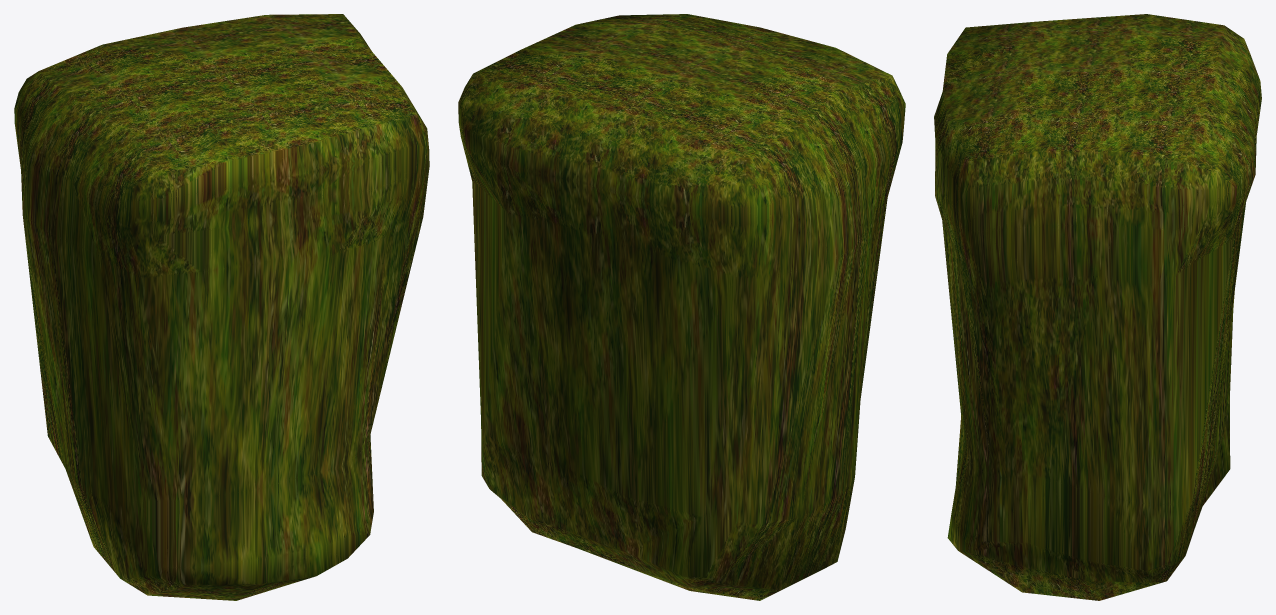
Rendered from LVL_ROAST_MUTTON_ROCK02.fbx.
The picture shows the model from 3 angles, left to right: view 1: azimuth 30°, elevation 25°; view 2: azimuth 150°, elevation 25°; view 3: azimuth 270°, elevation 25°; orthographic projection. The views are drawn at different scales.
Visible parts, largest first — view 1: LVL_ROAST_MUTTON_ROCK02; view 2: LVL_ROAST_MUTTON_ROCK02; view 3: LVL_ROAST_MUTTON_ROCK02.
Part boxes in pixels (box(x1,y1,x2,y2)): LVL_ROAST_MUTTON_ROCK02: box(14, 14, 429, 600); LVL_ROAST_MUTTON_ROCK02: box(458, 14, 905, 600); LVL_ROAST_MUTTON_ROCK02: box(934, 14, 1261, 600).
Size of the model in its own units: 70730 by 97088 by 56805.
1 material, 1 textured.
